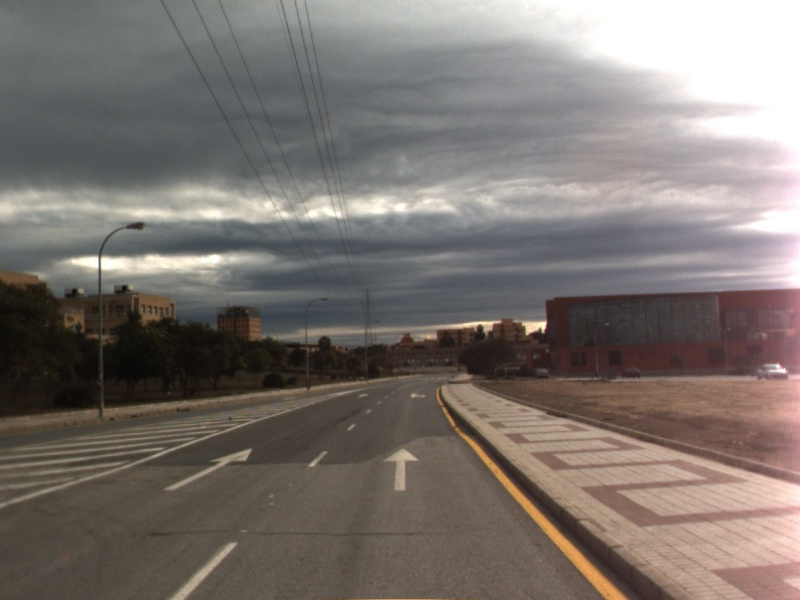STRAIGHT: (161, 446, 255, 493), (380, 446, 421, 493)
